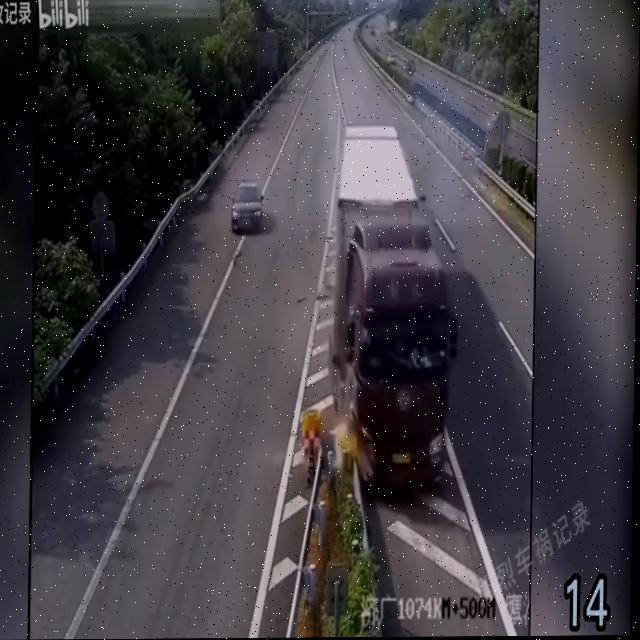normal: (220, 172, 270, 254)
single accident: (302, 88, 483, 515)
